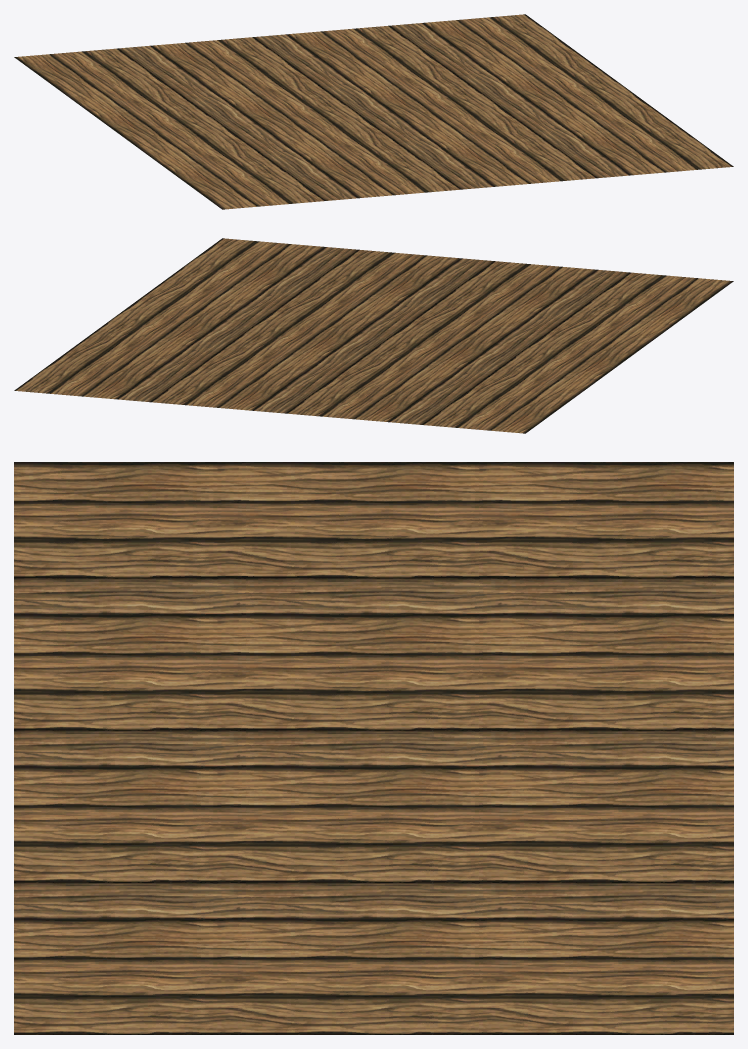
Rendered from LAKETOWN_EXTERIOR_PS_LT_PIER_WOOD09.fbx.
3 views of the same model, one above another, from view 1: azimuth 30°, elevation 25°; view 2: azimuth 150°, elevation 25°; view 3: azimuth 270°, elevation 25° (orthographic). The views are drawn at different scales.
Parts seen in each view (by area): view 1: LAKETOWN_EXTERIOR_PS_LT_PIER_WOOD09; view 2: LAKETOWN_EXTERIOR_PS_LT_PIER_WOOD09; view 3: LAKETOWN_EXTERIOR_PS_LT_PIER_WOOD09.
Part boxes in pixels (left/top/right/bottom): LAKETOWN_EXTERIOR_PS_LT_PIER_WOOD09: left=14, top=14, right=733, bottom=209; LAKETOWN_EXTERIOR_PS_LT_PIER_WOOD09: left=14, top=238, right=733, bottom=433; LAKETOWN_EXTERIOR_PS_LT_PIER_WOOD09: left=14, top=462, right=733, bottom=1034.
Bounding box in the file's own units: 94993 × 14539 × 67010.
1 material, 1 textured.
